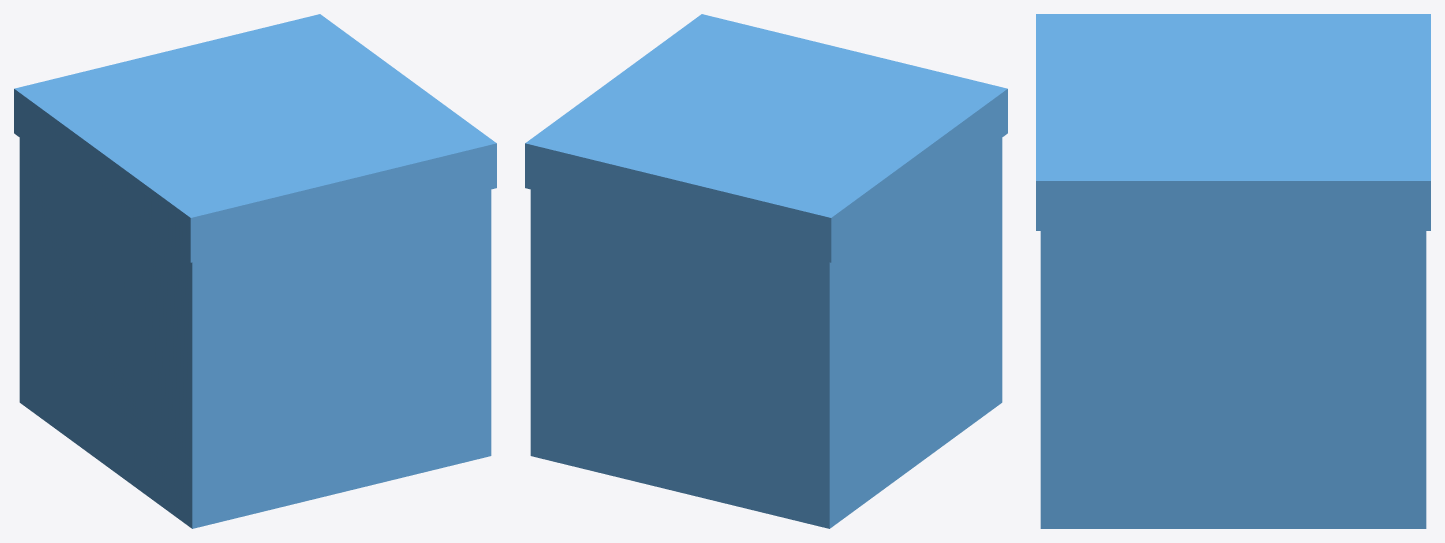
File: prebox08270337blue.fbx
3 views of the same model, side by side, from view 1: azimuth 30°, elevation 25°; view 2: azimuth 150°, elevation 25°; view 3: azimuth 270°, elevation 25° (orthographic). The views are drawn at different scales.
Parts seen in each view (by area): view 1: Cube; view 2: Cube; view 3: Cube.
Part boxes in pixels (x1,y1,x2,y2): Cube: [14, 14, 496, 528]; Cube: [525, 14, 1007, 528]; Cube: [1036, 14, 1430, 528].
Bounding box in the file's own units: 2.05 × 2 × 2.05.
